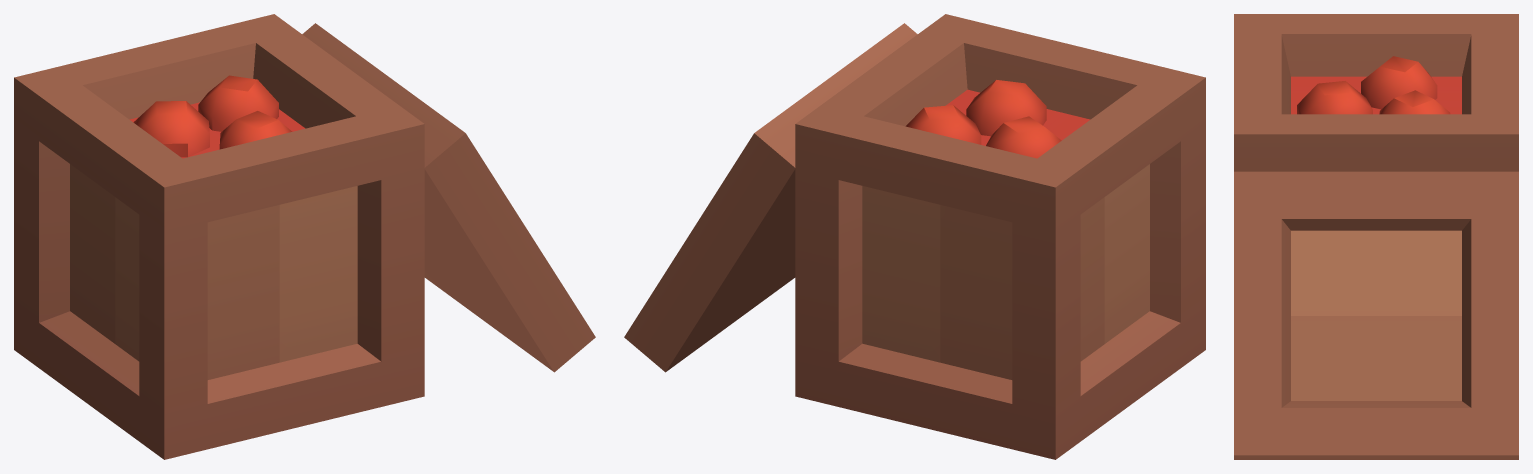
File: d_kaykit_cageot_ouvert.glb
3 views of the same model, side by side, from view 1: azimuth 30°, elevation 25°; view 2: azimuth 150°, elevation 25°; view 3: azimuth 270°, elevation 25° (orthographic). The views are drawn at different scales.
Visible parts, largest first — view 1: d_kaykit_cageot_ouvert; view 2: d_kaykit_cageot_ouvert; view 3: d_kaykit_cageot_ouvert.
Part boxes in pixels (x1=…): d_kaykit_cageot_ouvert: x1=14, y1=14, x2=595, y2=459; d_kaykit_cageot_ouvert: x1=624, y1=14, x2=1205, y2=459; d_kaykit_cageot_ouvert: x1=1234, y1=14, x2=1518, y2=459.
Size of the model in its own units: 0.3316 by 0.2056 by 0.2.
1 material, 1 textured.
